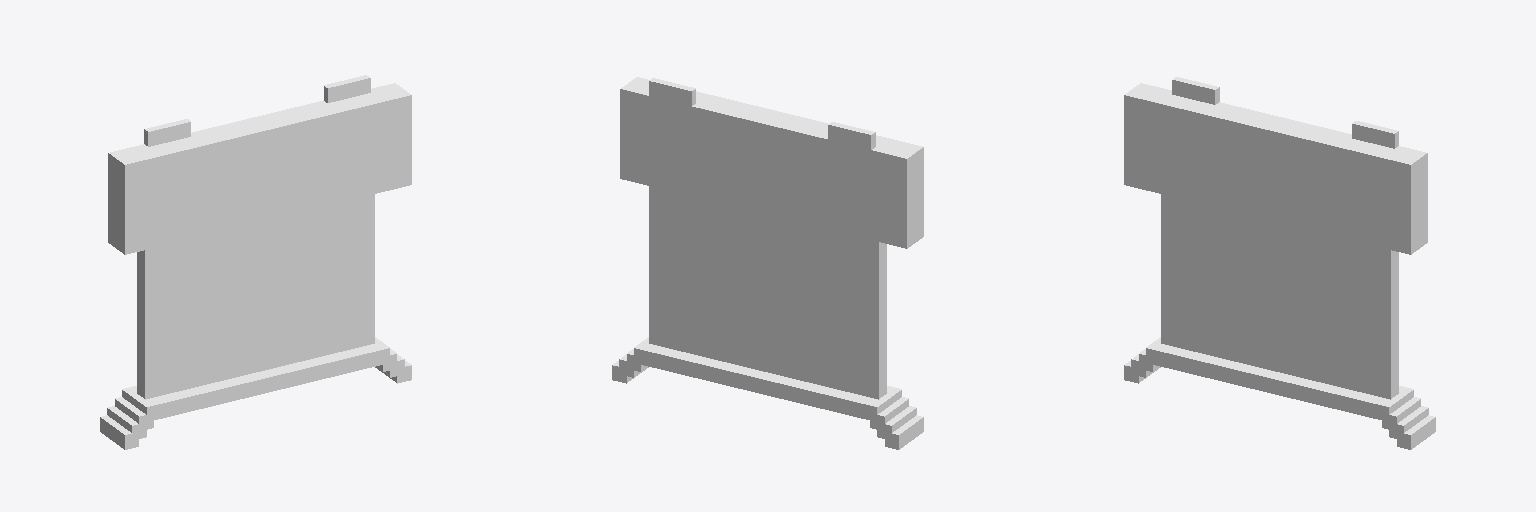
File: lowboard.obj
3 renders of one model, left to right at view 1: azimuth 30°, elevation 25°; view 2: azimuth 150°, elevation 25°; view 3: azimuth 330°, elevation 25°, orthographic.
Parts seen in each view (by area): view 1: object 1; view 2: object 1; view 3: object 1.
Boxes of the visible parts, x1,y1,x2,y2 form: object 1: [100, 75, 411, 449]; object 1: [612, 77, 923, 449]; object 1: [1124, 77, 1435, 449].
Size of the model in its own units: 4 by 4 by 0.6.